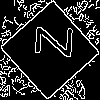Z: (25, 25, 73, 58)
